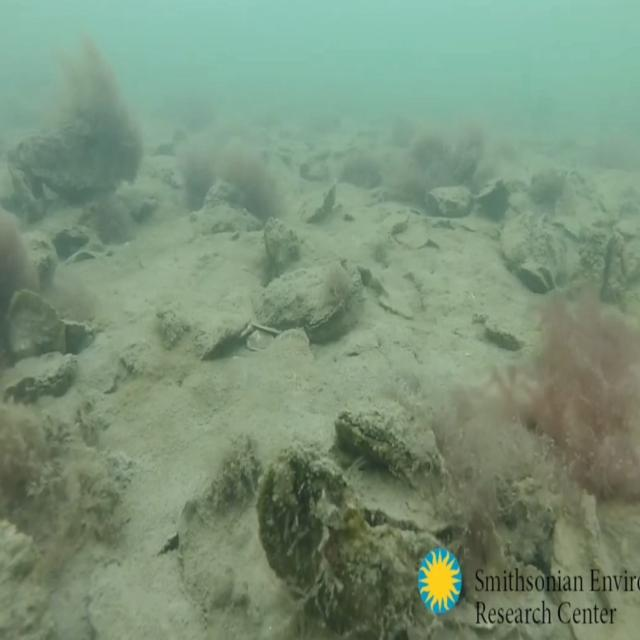Oyster-Closed: (335, 397, 446, 485), (251, 254, 365, 334), (0, 351, 81, 405)
Oyster-Indeterminate: (258, 440, 447, 640), (4, 286, 68, 364), (262, 214, 302, 284)
